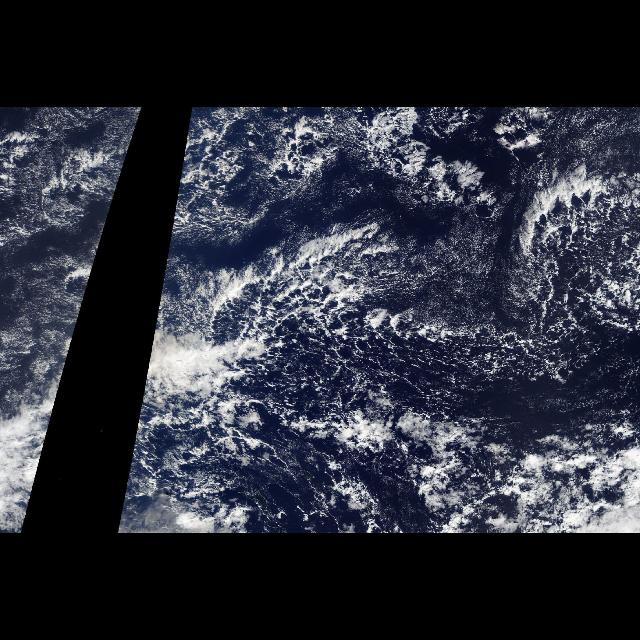Fish: (342, 110, 512, 224)
Gravel: (195, 116, 639, 518)
Sugar: (16, 107, 136, 227), (4, 235, 78, 387), (426, 212, 504, 330), (550, 108, 640, 174)
